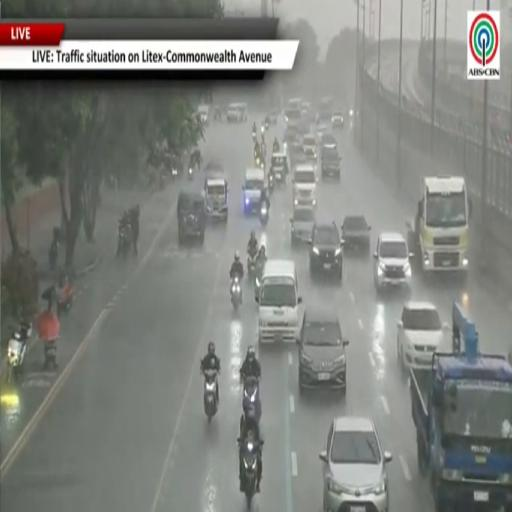car: (319, 416, 392, 511), (298, 308, 348, 393), (397, 301, 447, 372), (374, 232, 411, 292), (309, 221, 344, 281), (177, 191, 205, 244), (204, 176, 228, 221), (242, 168, 265, 214), (342, 216, 371, 250), (291, 207, 315, 245), (321, 147, 341, 180), (270, 153, 288, 184), (289, 143, 306, 171), (283, 127, 299, 152), (227, 103, 247, 122), (302, 134, 317, 159), (285, 108, 302, 127), (204, 159, 224, 174), (316, 123, 329, 145), (198, 104, 210, 126), (317, 109, 332, 126), (321, 133, 336, 149), (332, 110, 344, 129), (297, 120, 309, 137), (268, 110, 278, 125), (508, 346, 511, 365)
motorcycle: (36, 306, 59, 370), (7, 324, 31, 382), (240, 376, 261, 434), (240, 441, 258, 508), (203, 370, 218, 423), (57, 282, 74, 316), (117, 223, 131, 257), (231, 277, 242, 311), (44, 339, 56, 370), (49, 239, 58, 271), (247, 251, 257, 277), (259, 203, 268, 227), (268, 173, 275, 194), (255, 155, 264, 169), (171, 166, 178, 179), (261, 143, 266, 158), (188, 167, 193, 180), (273, 143, 279, 153), (252, 132, 257, 143), (265, 122, 269, 131), (261, 124, 264, 135)
truck: (410, 303, 511, 511), (406, 176, 471, 277)
